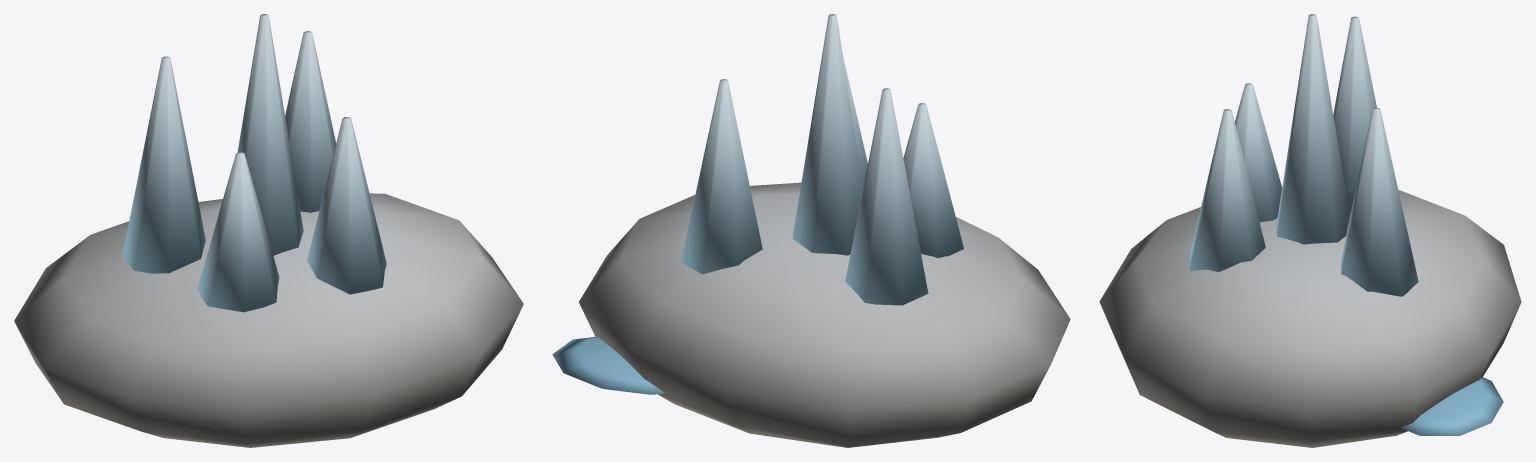
Rendered from ing_snowmelt_water.glb.
3 renders of one model, left to right at view 1: azimuth 30°, elevation 25°; view 2: azimuth 150°, elevation 25°; view 3: azimuth 270°, elevation 25°, orthographic. The views are drawn at different scales.
Visible parts, largest first — view 1: ing_snowmelt_water; view 2: ing_snowmelt_water; view 3: ing_snowmelt_water.
Part boxes in pixels (x1,y1,x2,y2): ing_snowmelt_water: (14, 14, 523, 447); ing_snowmelt_water: (552, 14, 1070, 447); ing_snowmelt_water: (1099, 14, 1521, 447).
Size of what is drawn, in the model's own units: 0.375 by 0.288 by 0.3181.
